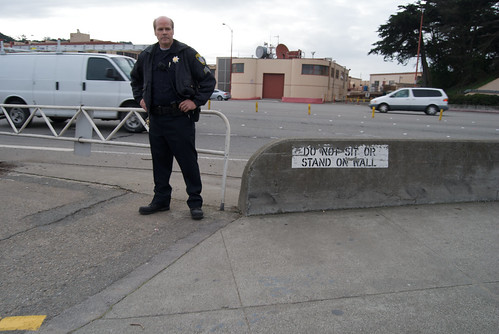building: (224, 53, 344, 103)
car: (364, 86, 450, 113)
policeman: (129, 11, 210, 218)
sky: (184, 1, 381, 50), (1, 1, 146, 35)
street: (196, 99, 499, 171)
tree: (389, 1, 499, 86)
van: (1, 55, 152, 132)
